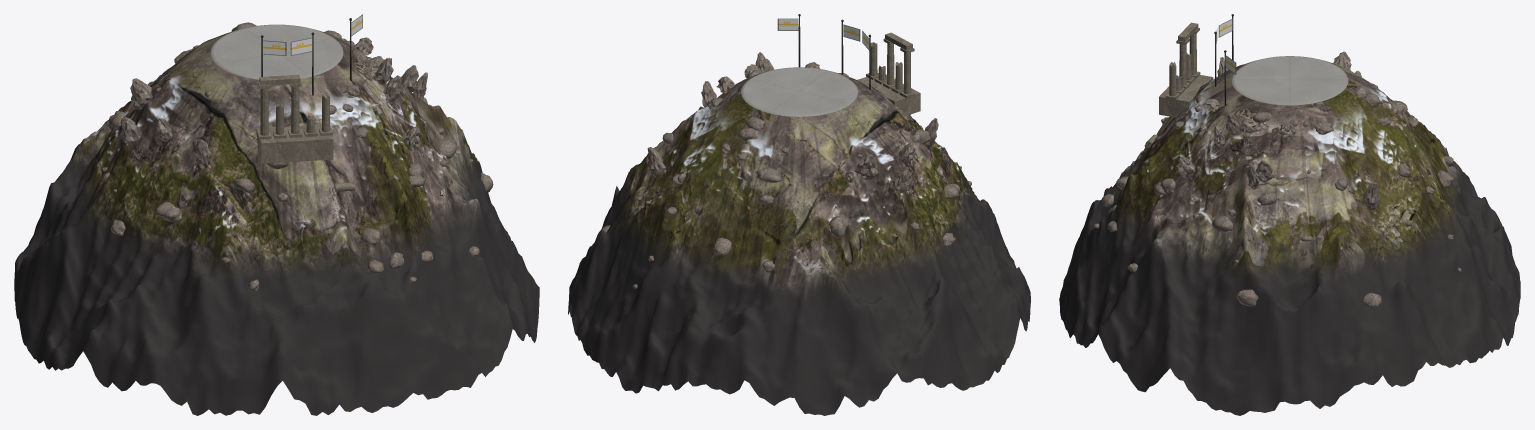
The model's file is mountain.fbx.
The picture shows the model from 3 angles, left to right: view 1: azimuth 30°, elevation 25°; view 2: azimuth 150°, elevation 25°; view 3: azimuth 270°, elevation 25°; orthographic projection. The views are drawn at different scales.
Parts seen in each view (by area): view 1: Mountain_LOD0, Platform, Ruins, Rocks, Crags, Banners; view 2: Mountain_LOD0, Platform, Rocks, Crags, Ruins, Banners; view 3: Mountain_LOD0, Platform, Rocks, Crags, Ruins.
Part boxes in pixels (<box>): Mountain_LOD0: <box>14,30,539,415</box>; Platform: <box>210,24,343,79</box>; Ruins: <box>256,74,355,191</box>; Rocks: <box>102,22,493,291</box>; Crags: <box>120,37,427,169</box>; Banners: <box>263,14,362,55</box>; Mountain_LOD0: <box>568,72,1030,415</box>; Platform: <box>741,67,857,116</box>; Rocks: <box>601,70,972,288</box>; Crags: <box>647,52,938,193</box>; Ruins: <box>857,32,920,114</box>; Banners: <box>777,18,869,50</box>; Mountain_LOD0: <box>1059,60,1520,415</box>; Platform: <box>1231,56,1348,105</box>; Rocks: <box>1093,83,1461,307</box>; Crags: <box>1176,51,1380,210</box>; Ruins: <box>1145,22,1213,148</box>.
Size of what is drawn, in the model's own units: 21 by 14.39 by 21.
6 materials, 6 textured.
